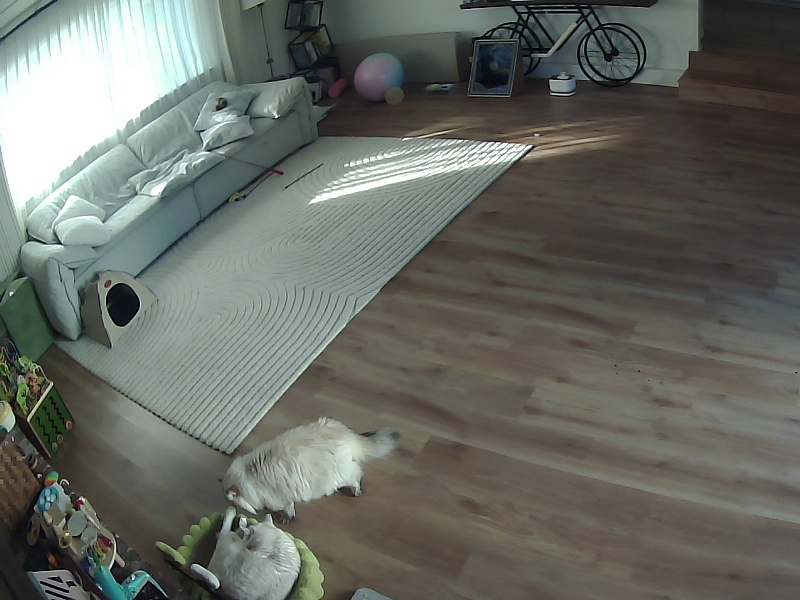Qb-2: (190, 506, 300, 599)
Qbo-2: (222, 417, 399, 521)
